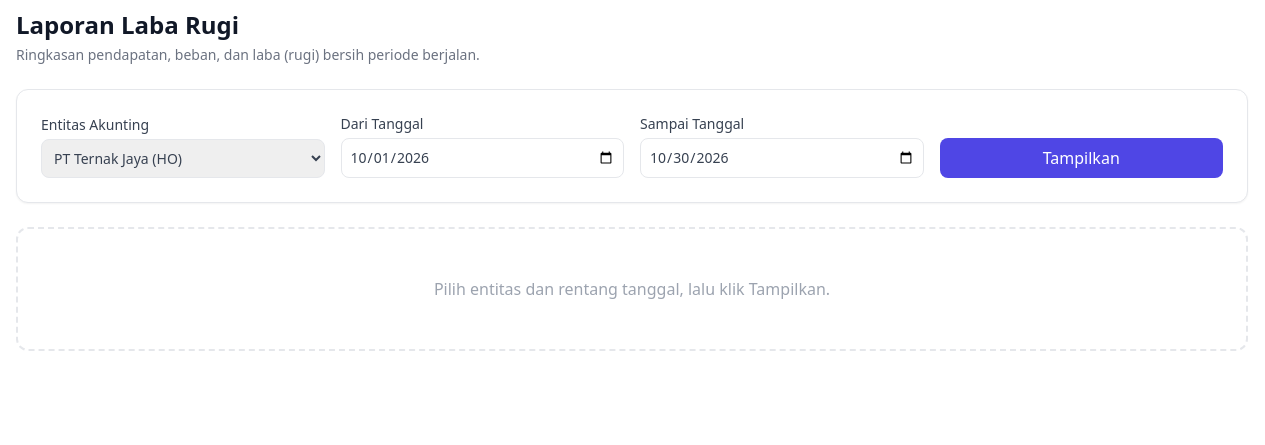
IncomeStatementPage › renders and displays report data after clicking Tampilkan
Click the button "Tampilkan": click(1081, 158) x1=940 y1=138 x2=1223 y2=178
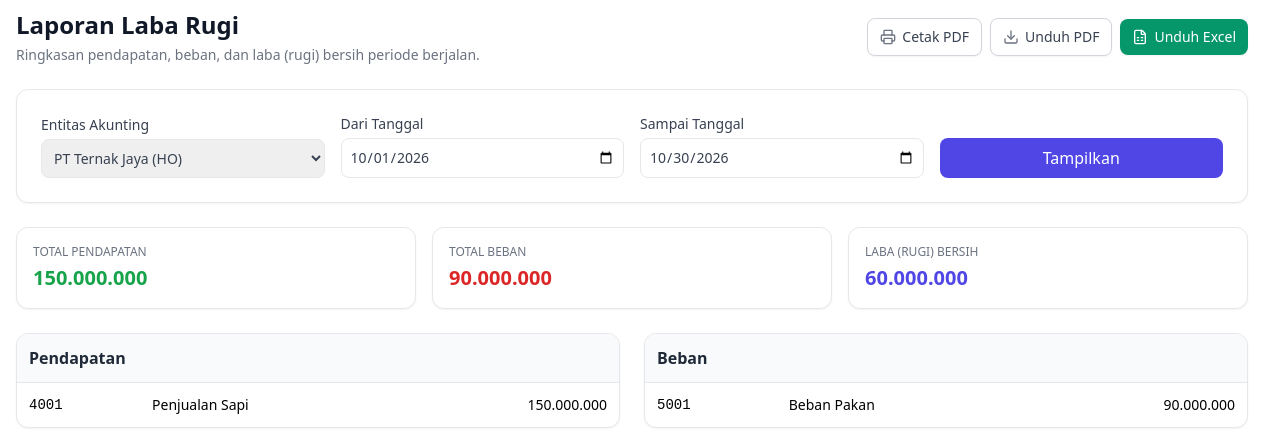
expect the text "150.000.000" is shown: met, box x1=33 y1=264 x2=147 y2=291
expect the text "90.000.000" is shown: met, box x1=449 y1=264 x2=552 y2=291
expect the text "60.000.000" is shown: met, box x1=865 y1=264 x2=968 y2=291
